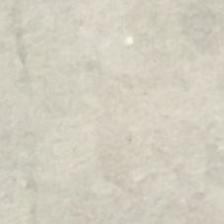Non_Crack: (26, 20, 198, 190)
